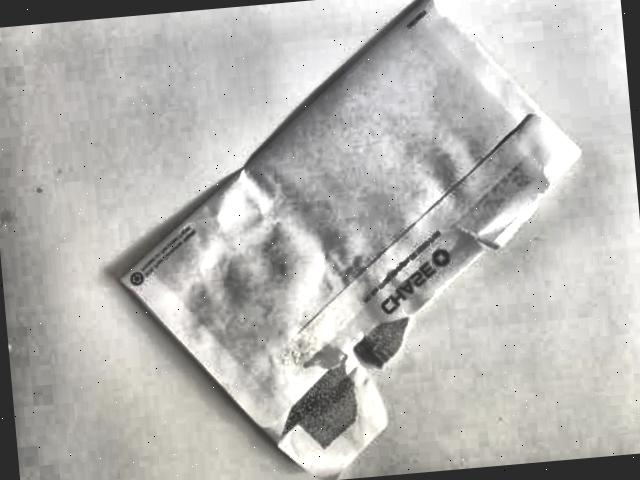Paper: (98, 0, 606, 480)
